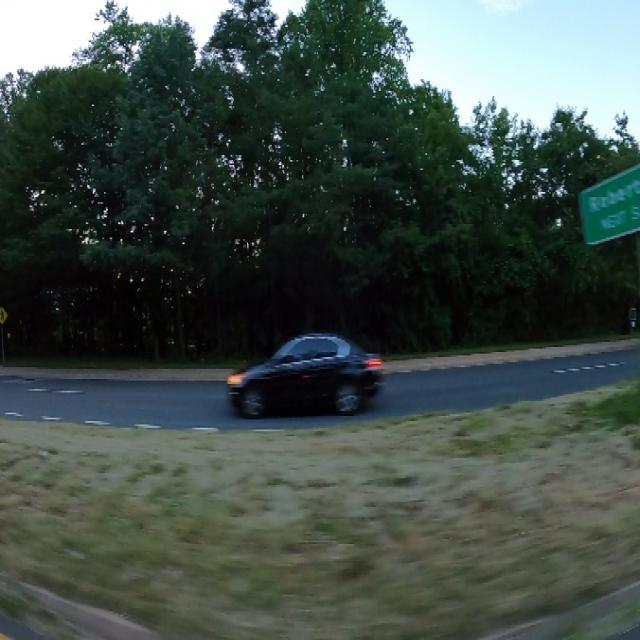Cars: (220, 338, 383, 412)
